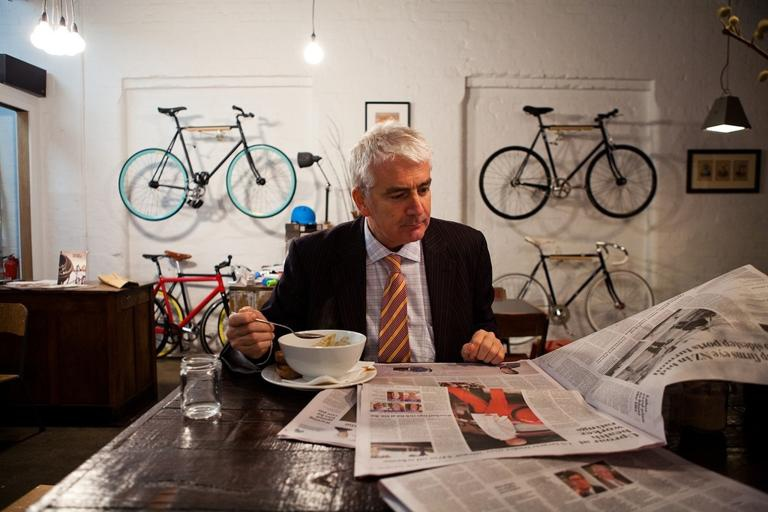non-vehicle: (477, 102, 661, 224), (113, 102, 298, 222), (487, 235, 659, 338), (140, 252, 232, 361), (150, 247, 230, 356)
